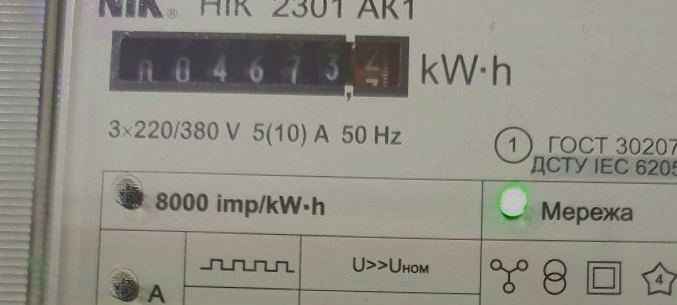0: (134, 54, 154, 84), (172, 53, 190, 84)
2: (361, 41, 382, 73)
3: (322, 49, 340, 83)
4: (210, 49, 228, 85)
6: (244, 50, 265, 85)
7: (282, 51, 304, 89)
screen: (103, 24, 414, 107)
